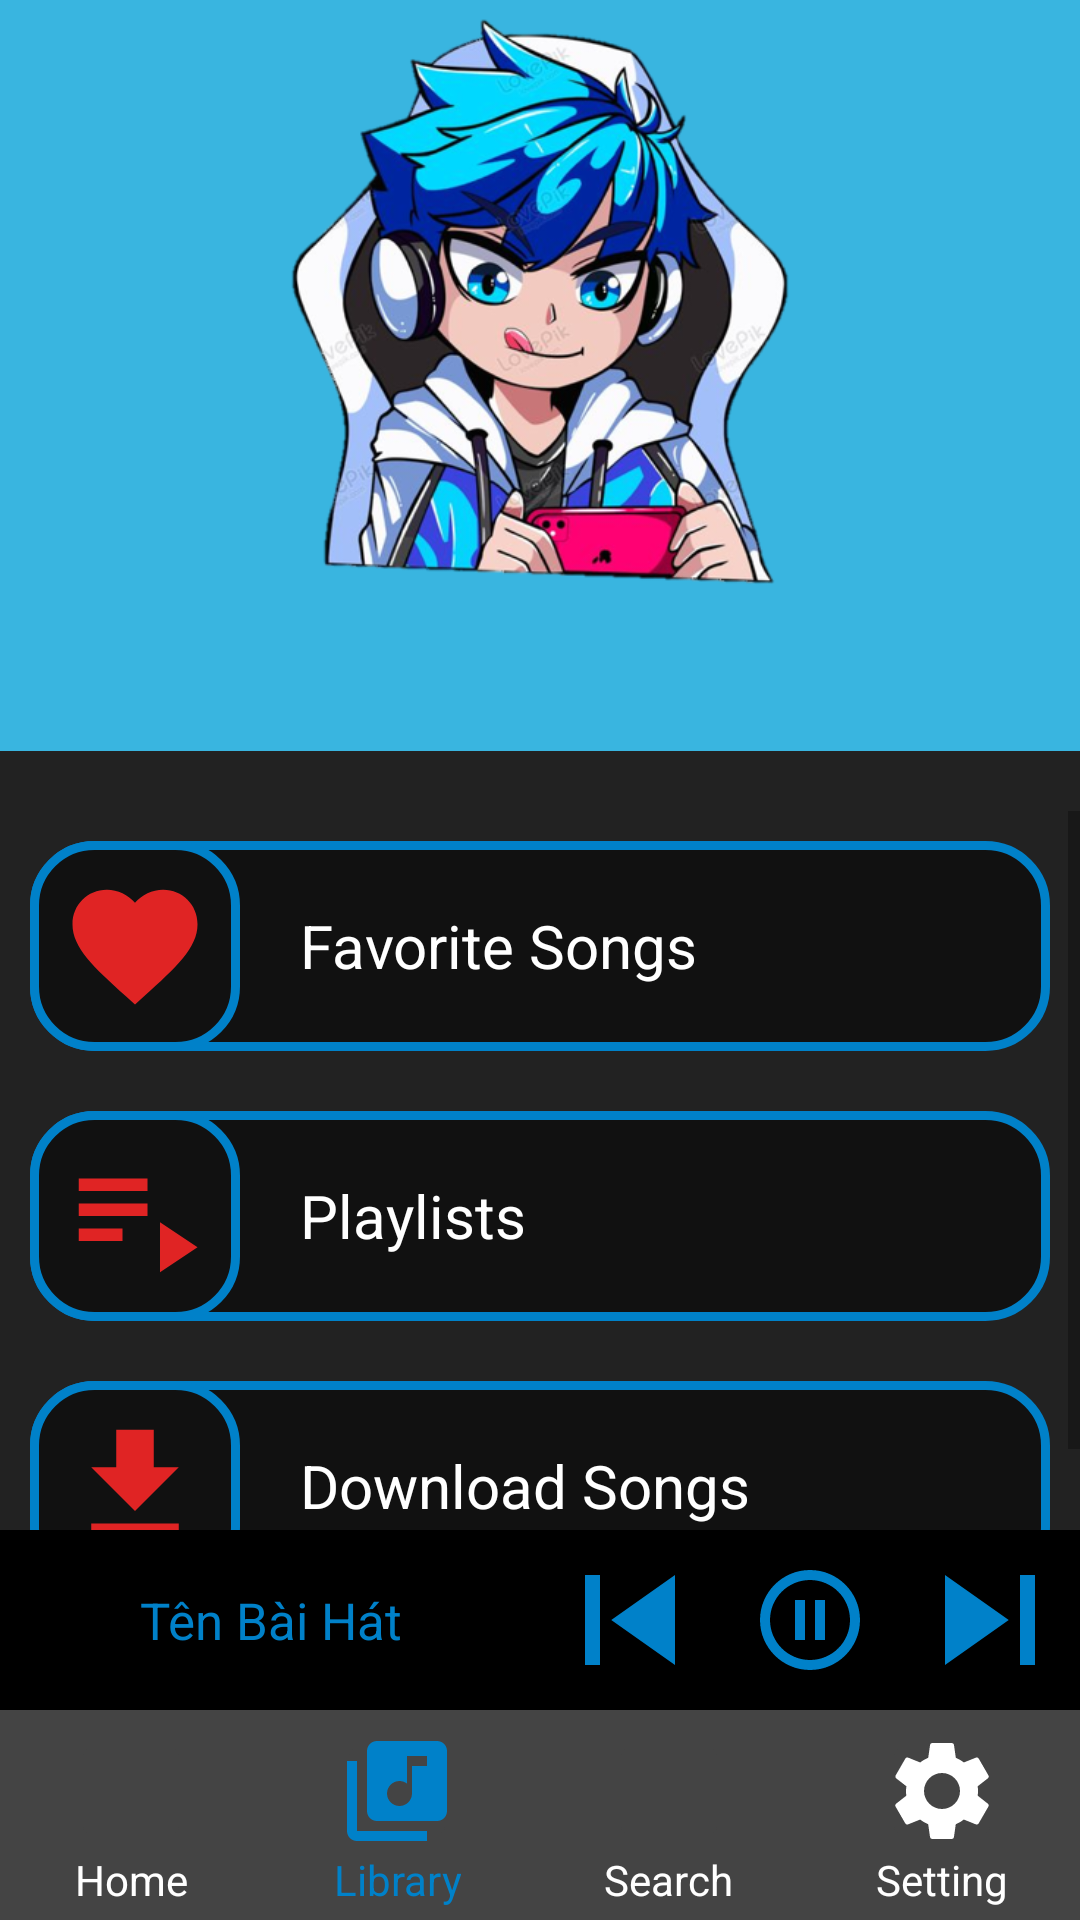

Named icons in this screenshot (1080px×1920px) and their bounding boxes, rect(x1, y1, x2, y2):
favorite library: rect(72, 889, 198, 1004)
pause: rect(760, 1570, 860, 1670)
skip next: rect(945, 1575, 1035, 1665)
skip previous: rect(585, 1575, 675, 1665)
